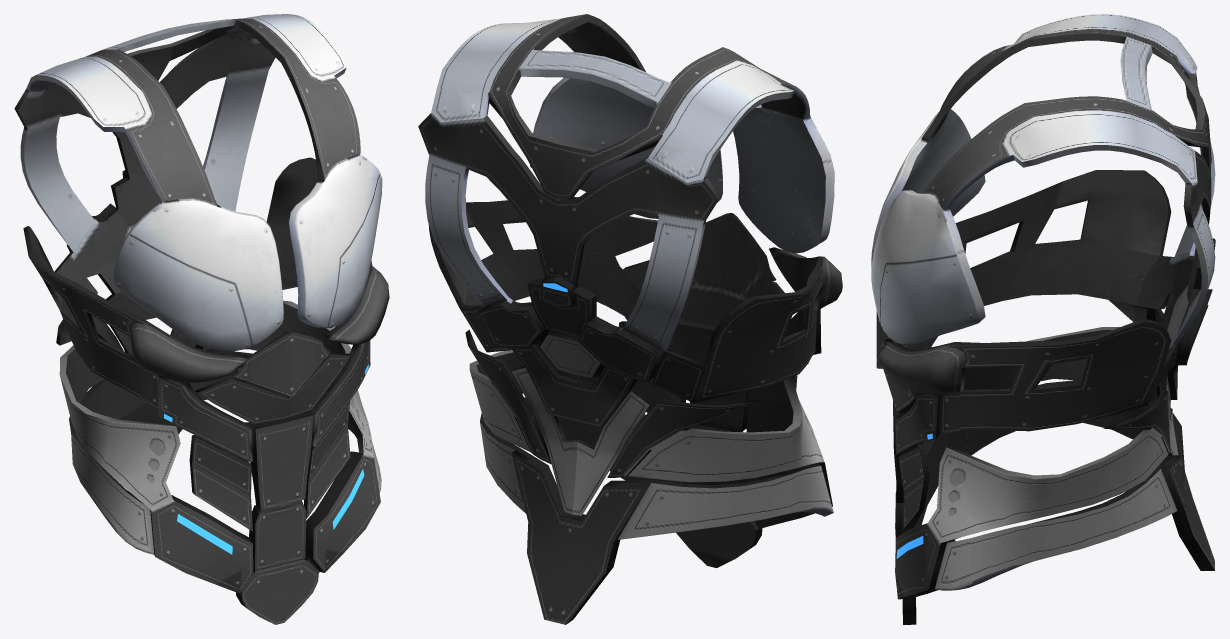
File: SciFiChestArmor.glb
3 renders of one model, left to right at view 1: azimuth 30°, elevation 25°; view 2: azimuth 150°, elevation 25°; view 3: azimuth 270°, elevation 25°, orthographic. The views are drawn at different scales.
Parts seen in each view (by area): view 1: ChestArmor; view 2: ChestArmor; view 3: ChestArmor.
Boxes of the visible parts, left/top/right/bottom form: ChestArmor: left=14, top=14, right=389, bottom=624; ChestArmor: left=418, top=14, right=842, bottom=624; ChestArmor: left=871, top=14, right=1215, bottom=624.
Size of what is drawn, in the model's own units: 0.4662 by 0.7171 by 0.3989.
Materials: 2 (1 with a texture image).
